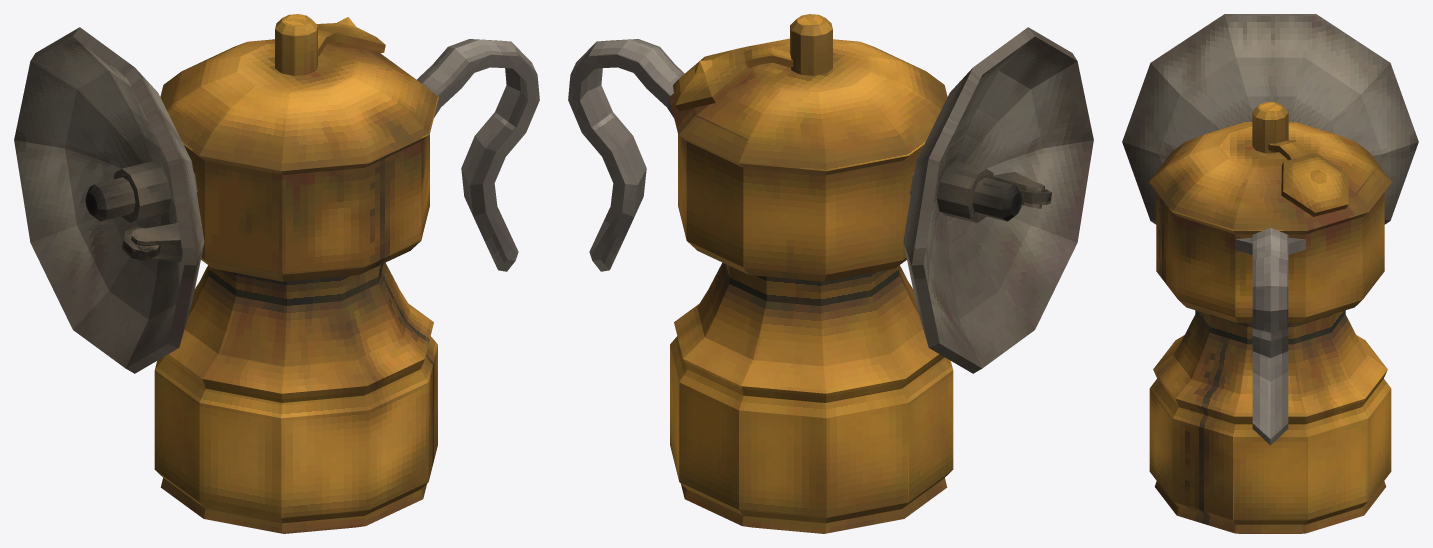
The model's file is CalciumLamp.glb.
3 renders of one model, left to right at view 1: azimuth 30°, elevation 25°; view 2: azimuth 150°, elevation 25°; view 3: azimuth 270°, elevation 25°, orthographic. The views are drawn at different scales.
Parts seen in each view (by area): view 1: Cylinder.004; view 2: Cylinder.004; view 3: Cylinder.004.
Part boxes in pixels (x1=…): Cylinder.004: x1=14, y1=14, x2=539, y2=533; Cylinder.004: x1=568, y1=14, x2=1093, y2=533; Cylinder.004: x1=1122, y1=14, x2=1418, y2=533.
Bounding box in the file's own units: 3 × 3.13 × 2.09.
5 materials, 5 textured.
